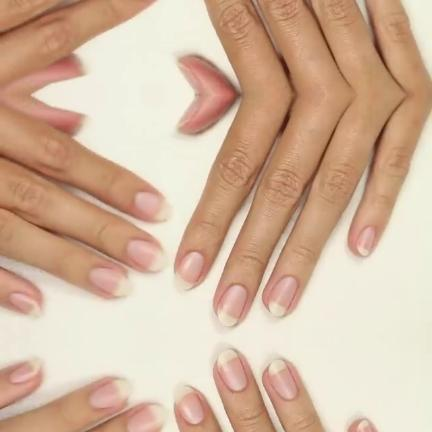Nail: (126, 240, 170, 271), (217, 283, 247, 326), (217, 348, 247, 391), (127, 403, 170, 432), (88, 267, 132, 295), (88, 379, 132, 407), (173, 251, 204, 290), (173, 384, 204, 423), (268, 275, 298, 315), (268, 359, 298, 399), (134, 191, 172, 221), (9, 293, 40, 317), (9, 357, 40, 381), (357, 225, 375, 255), (357, 419, 373, 432), (126, 427, 129, 432)
